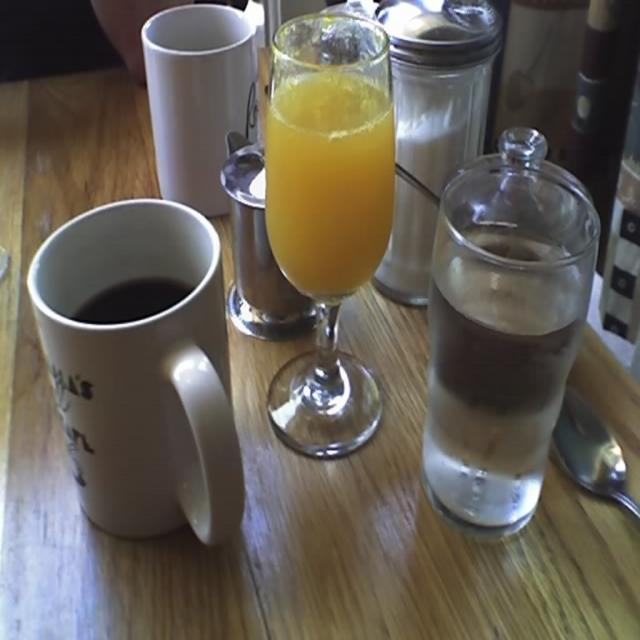Juice: (252, 22, 399, 400)
